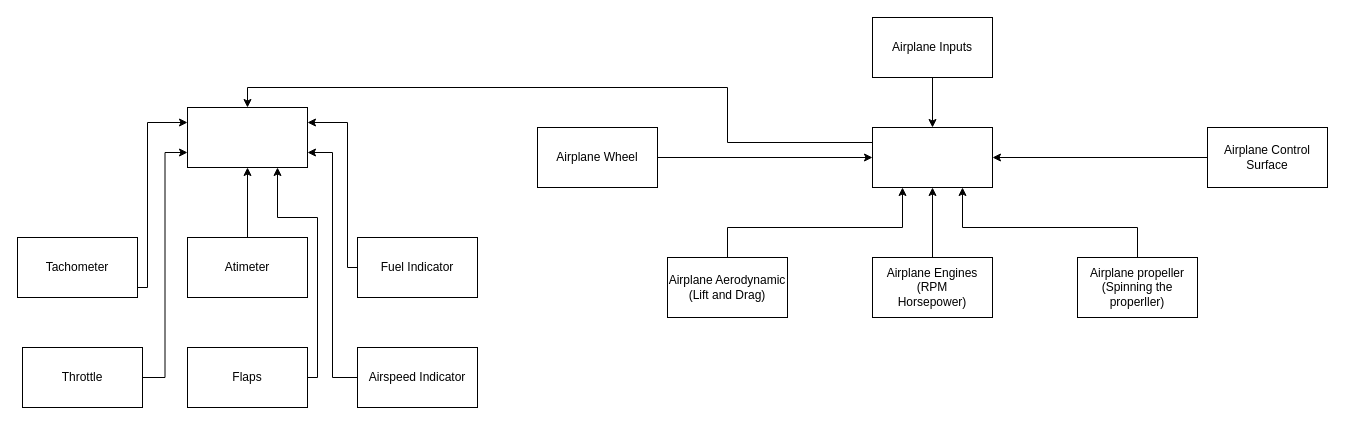
This 1345x425 diagram has some shape labels left out. Here are the shapes that lost their labels. From the top down, the centre of each, then its label:
At [247,137]: "Airplane UI".
At [932,157]: "Airplane Controller".
